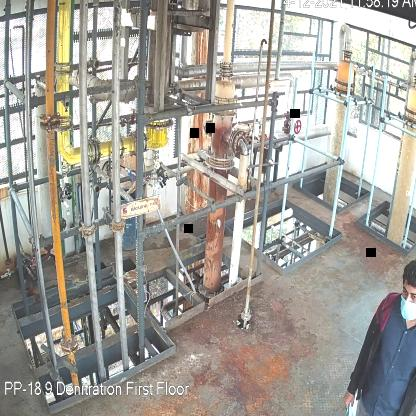no_goggles: (400, 286, 416, 302)
